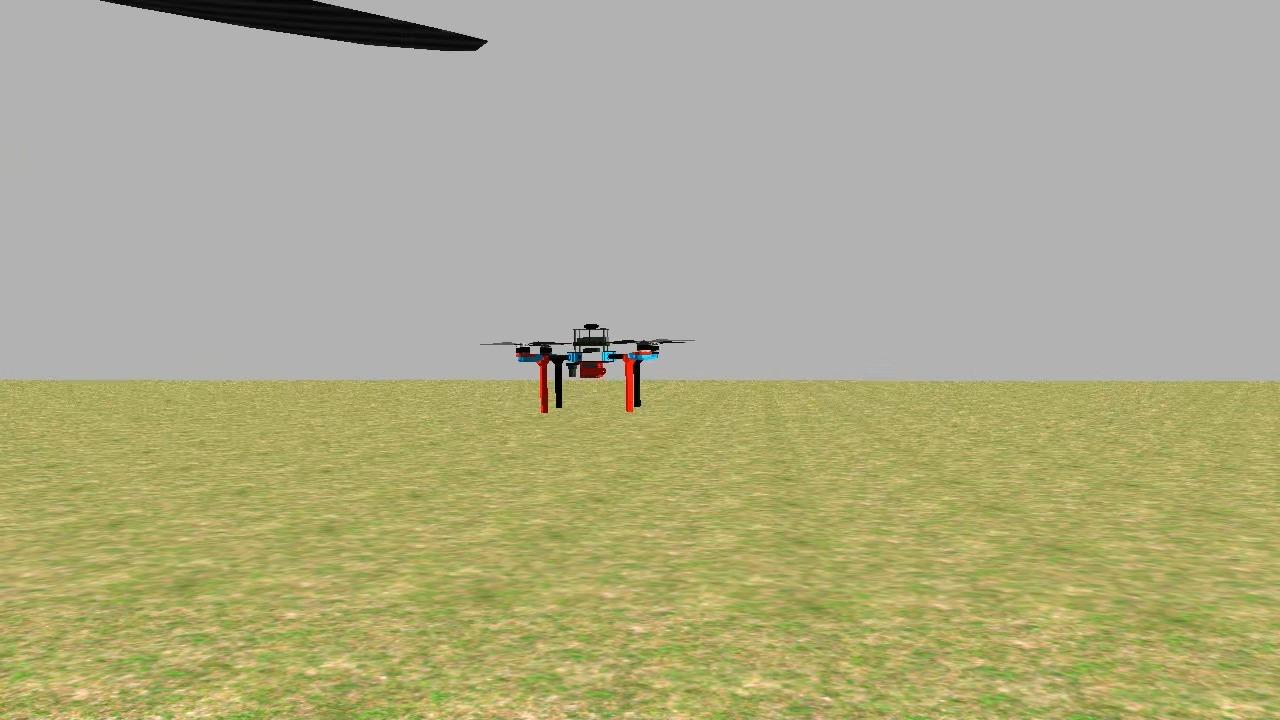UAV: (502, 302, 671, 431)
